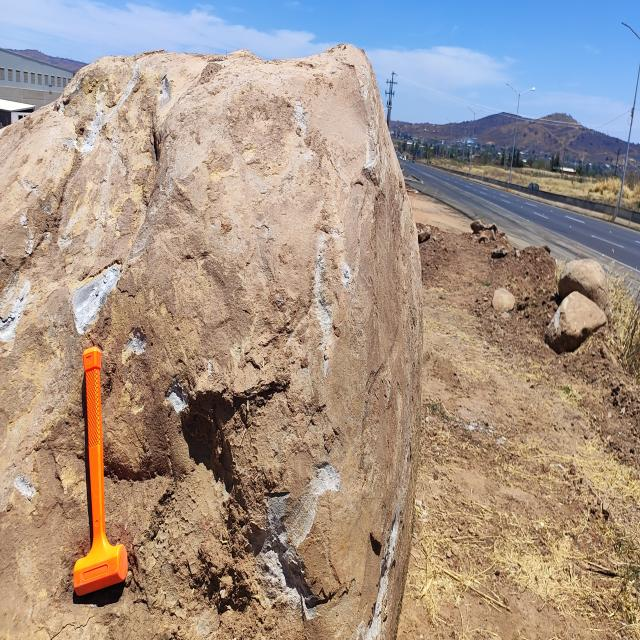Orange_hammer: (72, 345, 128, 597)
